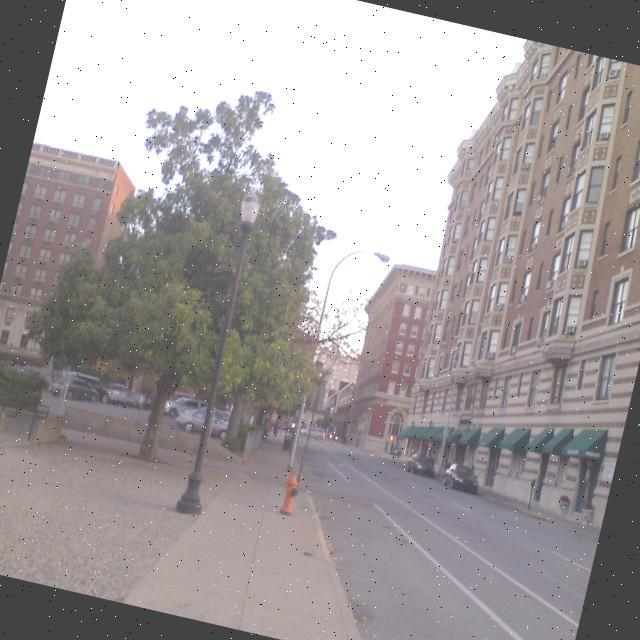fire_hydrant: (276, 473, 300, 516)
